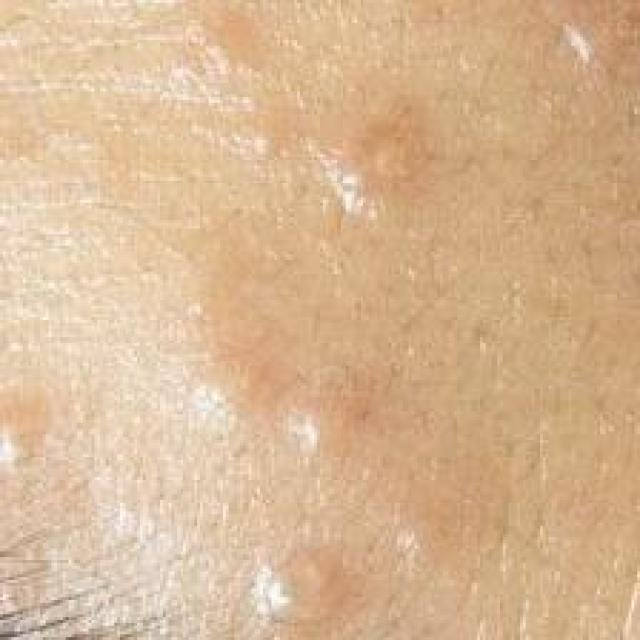others: (12, 47, 573, 640)
